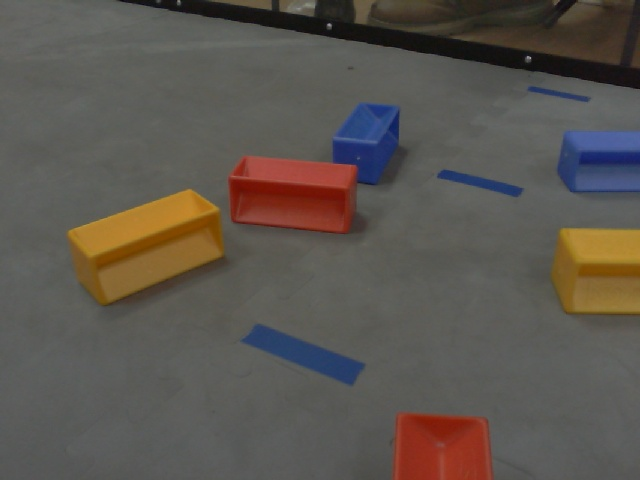BlueSample: (330, 100, 402, 187), (551, 127, 640, 193)
RedSample: (227, 154, 359, 239), (387, 410, 496, 479)
YellowSample: (68, 187, 229, 311), (550, 220, 640, 318)
